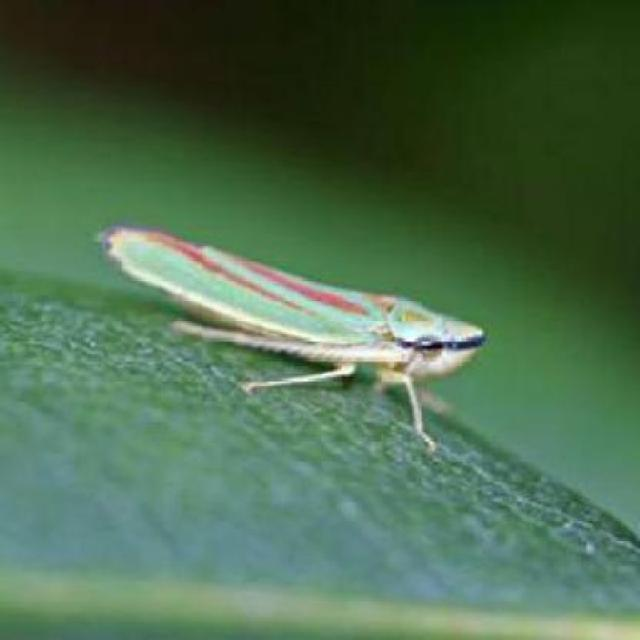green-leafhopper: (102, 216, 482, 416)
